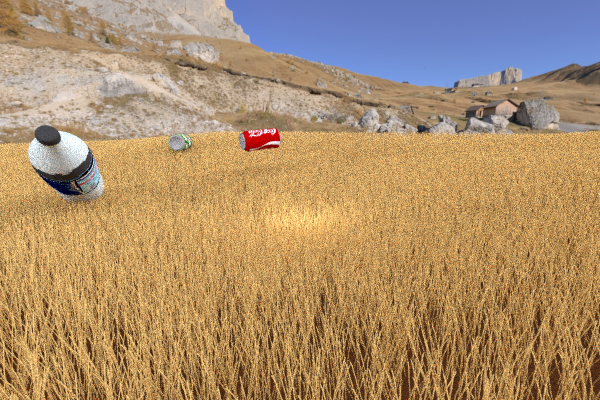bottle: (28, 125, 104, 204)
can: (238, 128, 280, 151), (168, 133, 192, 151)
